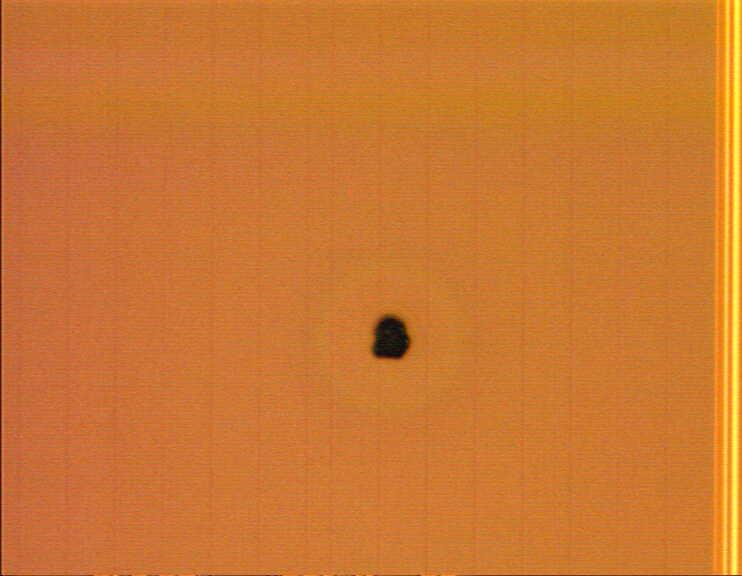PIQ PARTICLE: (365, 310, 421, 366)
